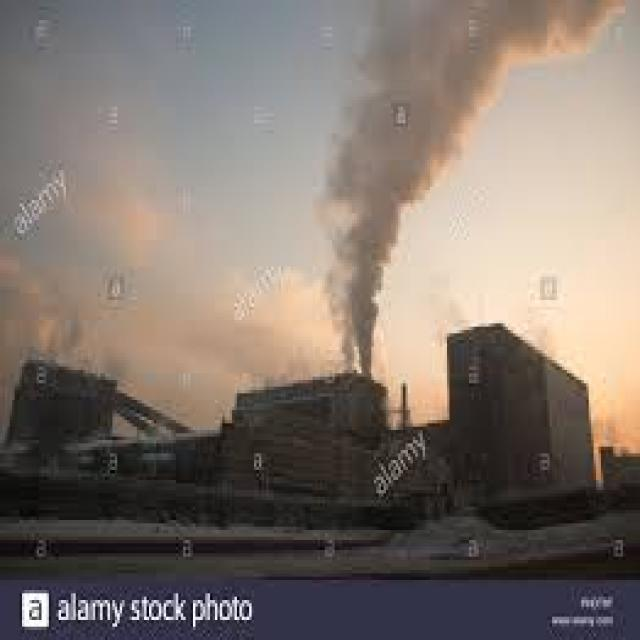smoke: (318, 0, 640, 331)
